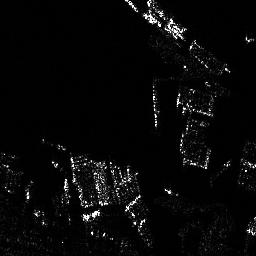ship: (145, 1, 188, 32), (149, 81, 160, 129)
